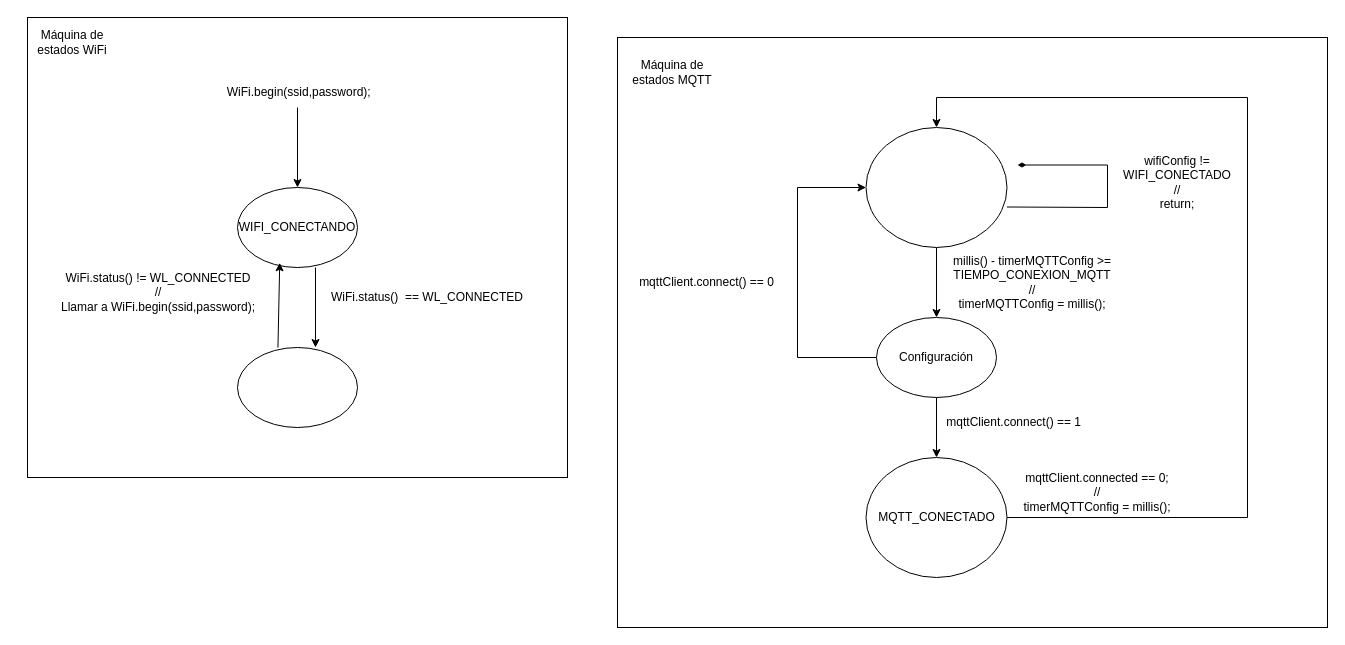
This 1345x645 diagram has some shape labels left out. Each missing label, with the centre of its shape:
MQTT_DESCONECTADO: (x=936, y=187)
WIFI_CONECTADO: (x=297, y=387)
